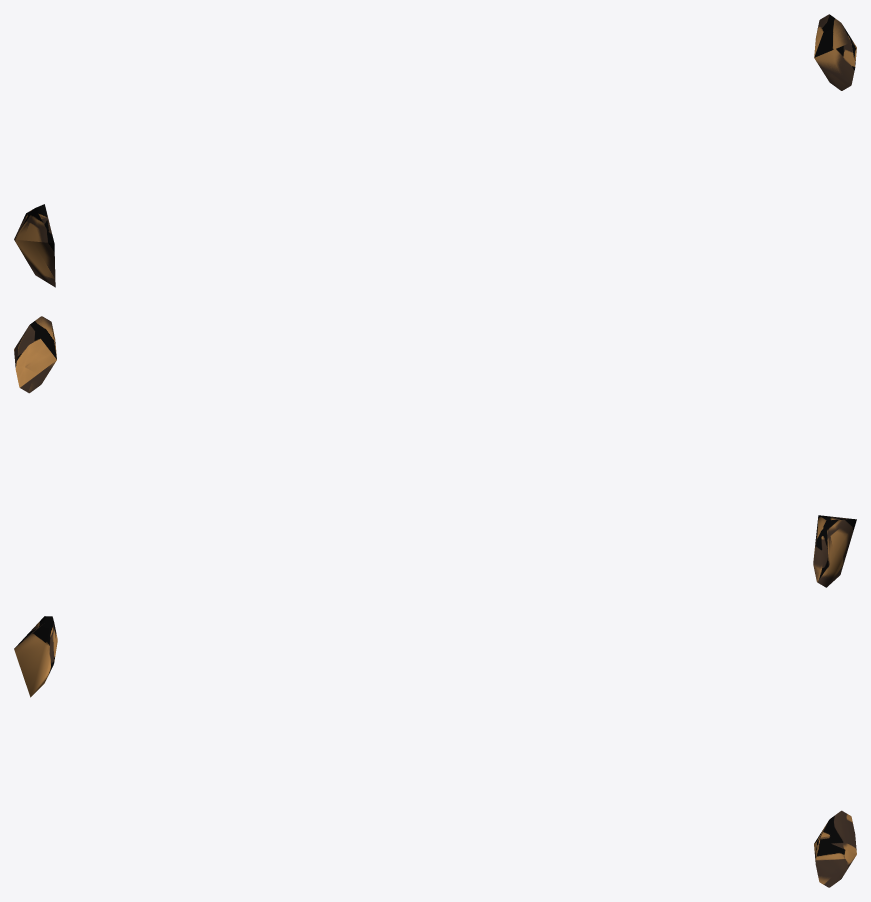
The model's file is Atalanta_SandaliaIzq_Bronce.fbx.
The picture shows the model from 3 angles, top to bottom: view 1: azimuth 30°, elevation 25°; view 2: azimuth 150°, elevation 25°; view 3: azimuth 330°, elevation 25°; orthographic projection.
Visible parts, largest first — view 1: Atalanta_SandaliaIzq_Bronce; view 2: Atalanta_SandaliaIzq_Bronce; view 3: Atalanta_SandaliaIzq_Bronce.
Boxes of the visible parts, x1,y1,x2,y2 form: Atalanta_SandaliaIzq_Bronce: (14, 14, 856, 287); Atalanta_SandaliaIzq_Bronce: (14, 316, 856, 587); Atalanta_SandaliaIzq_Bronce: (14, 616, 856, 887).
Bounding box in the file's own units: 1.16 × 0.0939 × 0.0951.
